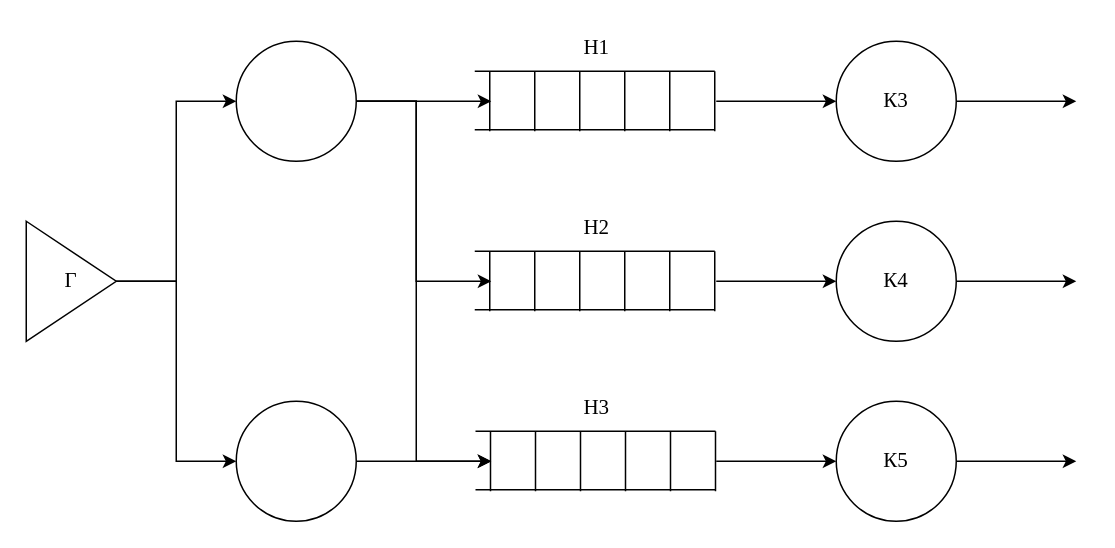
Some shapes in this 1115 by 548 pixel diagram are drawn without their labels. The centre of each missing label's shape, as x and y in pixels:
К1: (295,100)
К2: (295,460)
